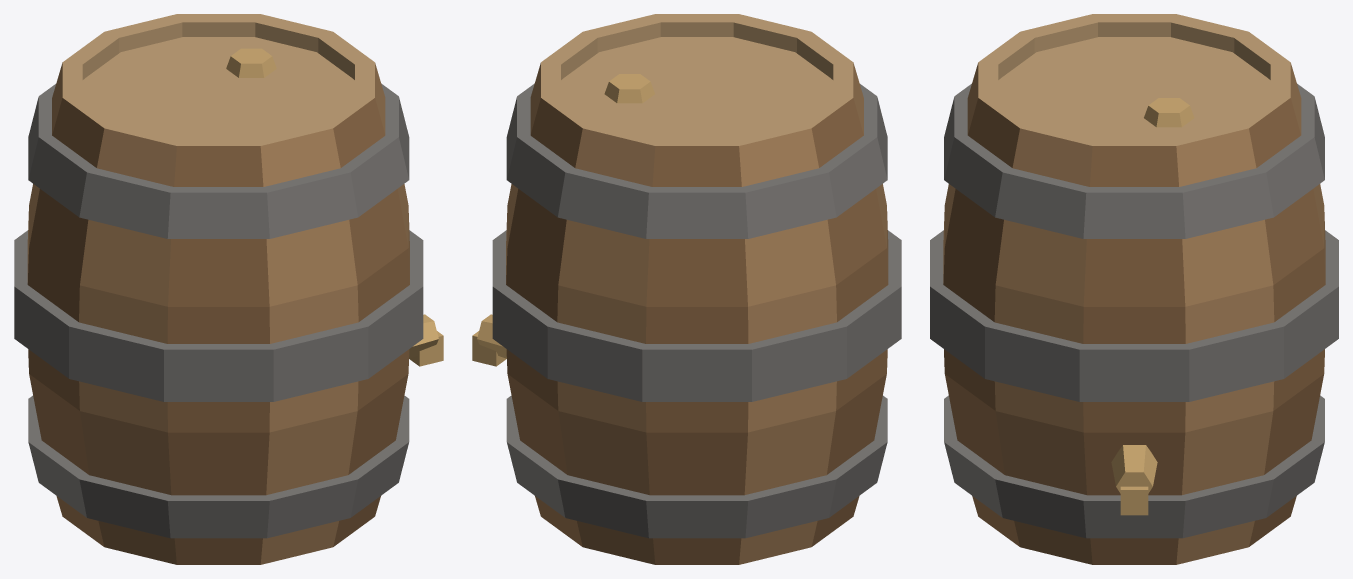
The model's file is it-barrel.glb.
3 renders of one model, left to right at view 1: azimuth 30°, elevation 25°; view 2: azimuth 150°, elevation 25°; view 3: azimuth 270°, elevation 25°, orthographic.
Visible parts, largest first — view 1: body, hoop_mid, hoop_top, lid, hoop_bottom, bung, tap; view 2: body, hoop_mid, hoop_top, lid, hoop_bottom, bung, tap; view 3: body, hoop_mid, hoop_top, lid, hoop_bottom, tap, bung.
Boxes of the visible parts, x1,y1,x2,y2 form: body: (27,14,409,564); hoop_mid: (14,230,423,401); hoop_top: (28,83,409,238); lid: (85,37,352,137); hoop_bottom: (28,395,409,538); bung: (226,48,276,77); tap: (409,314,443,366); body: (506,14,888,564); hoop_mid: (492,230,901,401); hoop_top: (506,83,887,238); lid: (563,37,830,137); hoop_bottom: (506,395,887,538); bung: (604,74,654,103); tap: (472,314,506,366); body: (943,14,1325,564); hoop_mid: (930,230,1338,401); hoop_top: (944,83,1324,238); lid: (1000,37,1268,137); hoop_bottom: (944,395,1324,538); tap: (1111,445,1157,515); bung: (1144,98,1194,127).
Size of what is drawn, in the model's own units: 0.3947 by 0.4 by 0.3539.
